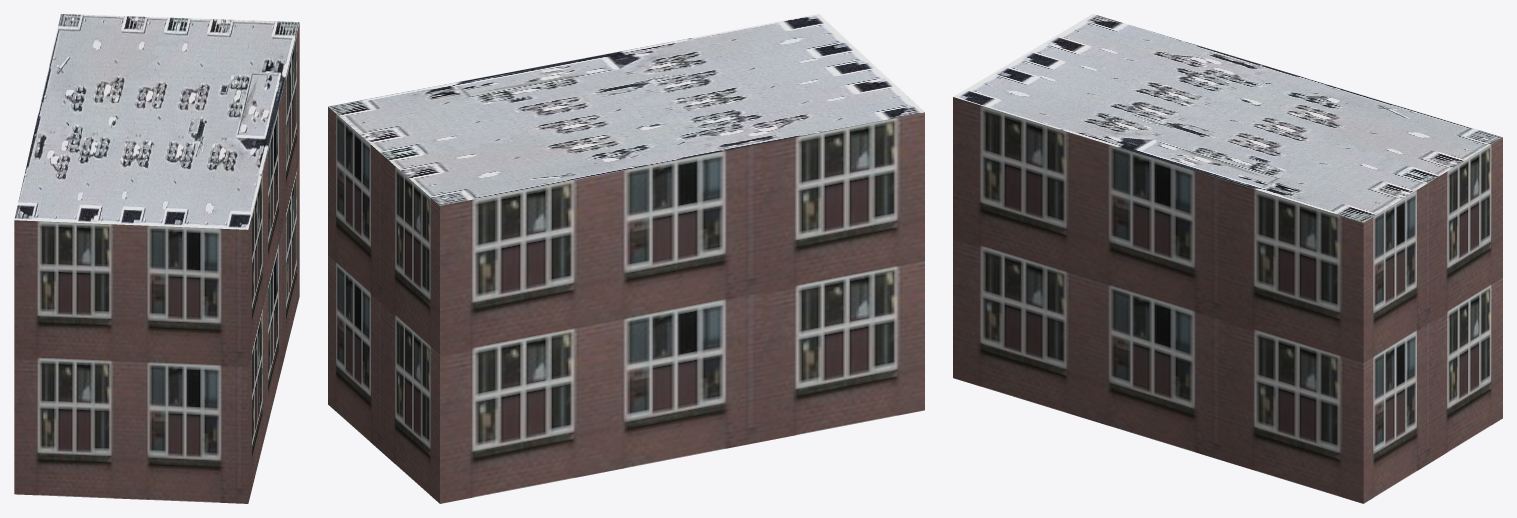
File: ResTex__4844.fbx
3 renders of one model, left to right at view 1: azimuth 30°, elevation 25°; view 2: azimuth 150°, elevation 25°; view 3: azimuth 270°, elevation 25°, orthographic. The views are drawn at different scales.
Visible parts, largest first — view 1: CityEngineMaterial_12_m, CityEngineMaterial_8_m; view 2: CityEngineMaterial_12_m, CityEngineMaterial_8_m; view 3: CityEngineMaterial_12_m, CityEngineMaterial_8_m.
Part boxes in pixels (<box>): CityEngineMaterial_12_m: <box>14,23,299,503</box>; CityEngineMaterial_8_m: <box>14,14,299,229</box>; CityEngineMaterial_12_m: <box>328,107,924,503</box>; CityEngineMaterial_8_m: <box>328,14,924,205</box>; CityEngineMaterial_12_m: <box>953,97,1502,503</box>; CityEngineMaterial_8_m: <box>953,14,1502,222</box>.
Bounding box in the file's own units: 9.56 × 6 × 10.64.
Materials: 2 (2 with a texture image).
